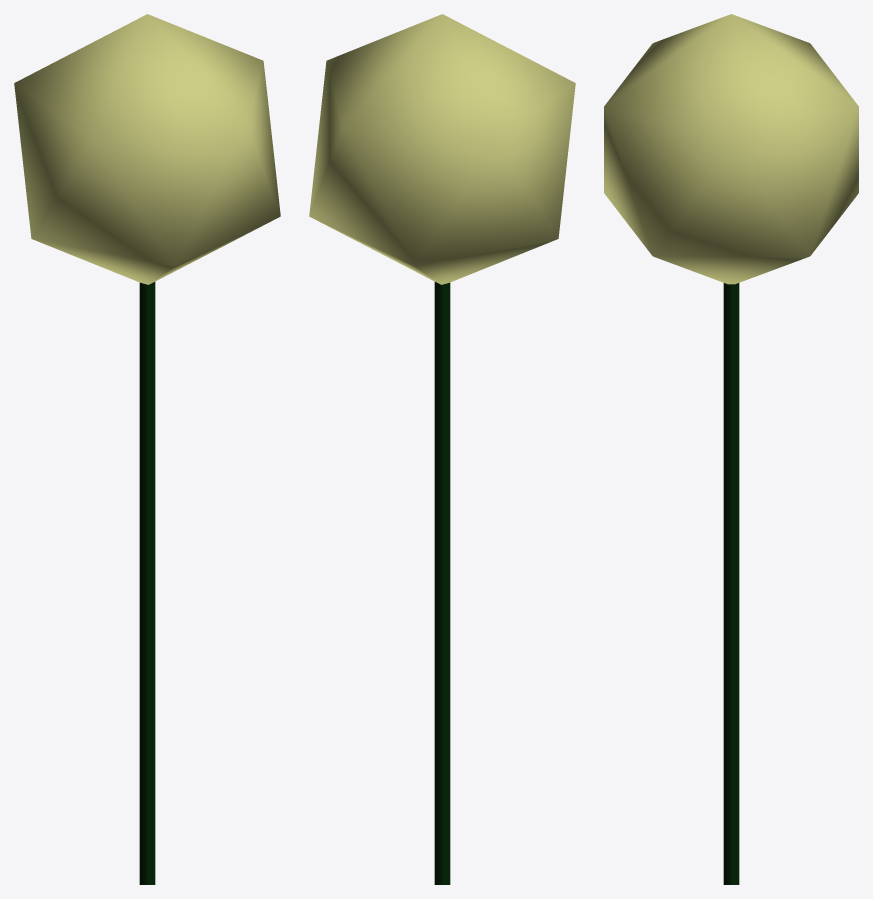
File: Prop_Flower02.FBX
3 views of the same model, side by side, from view 1: azimuth 30°, elevation 25°; view 2: azimuth 150°, elevation 25°; view 3: azimuth 270°, elevation 25° (orthographic).
Parts seen in each view (by area): view 1: Prop_Flower02; view 2: Prop_Flower02; view 3: Prop_Flower02.
Part boxes in pixels (bbox=[...]): Prop_Flower02: bbox=[14, 14, 280, 884]; Prop_Flower02: bbox=[309, 14, 575, 884]; Prop_Flower02: bbox=[604, 14, 858, 884].
Size of the model in its own units: 5.48 by 19.62 by 5.22.
